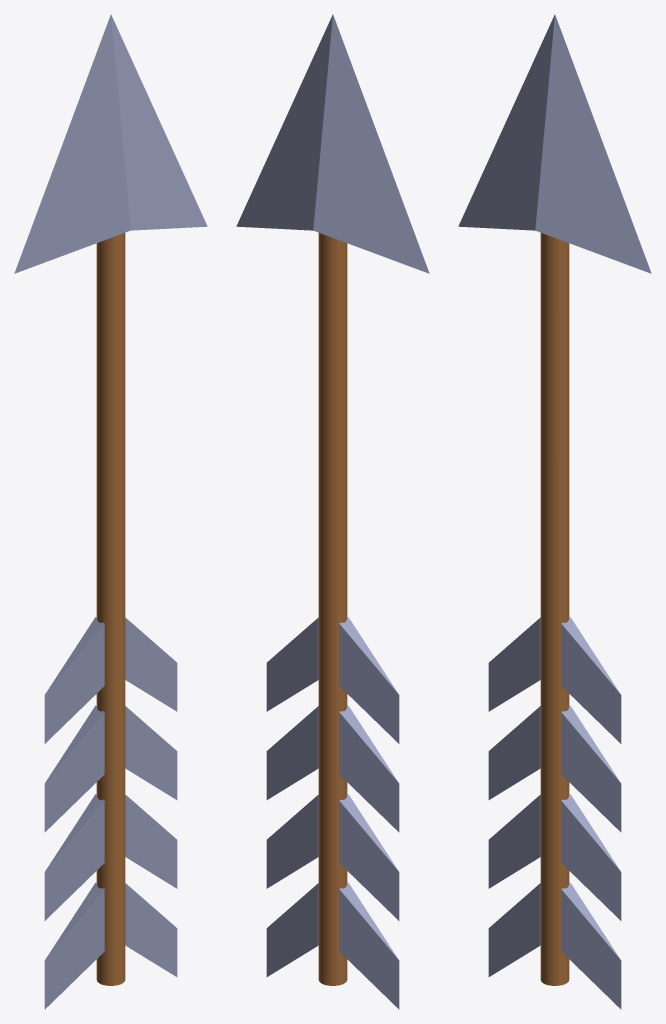
Rendered from Arrow Silver Multi.fbx.
3 renders of one model, left to right at view 1: azimuth 30°, elevation 25°; view 2: azimuth 150°, elevation 25°; view 3: azimuth 330°, elevation 25°, orthographic.
Visible parts, largest first — view 1: Arrow Silver; view 2: Arrow Silver; view 3: Arrow Silver.
Boxes of the visible parts, box(x1,y1,x2,y2) form: Arrow Silver: box(14, 14, 207, 1009); Arrow Silver: box(236, 14, 429, 1009); Arrow Silver: box(458, 14, 651, 1009).
Bounding box in the file's own units: 0.2236 × 1.08 × 0.0788.
